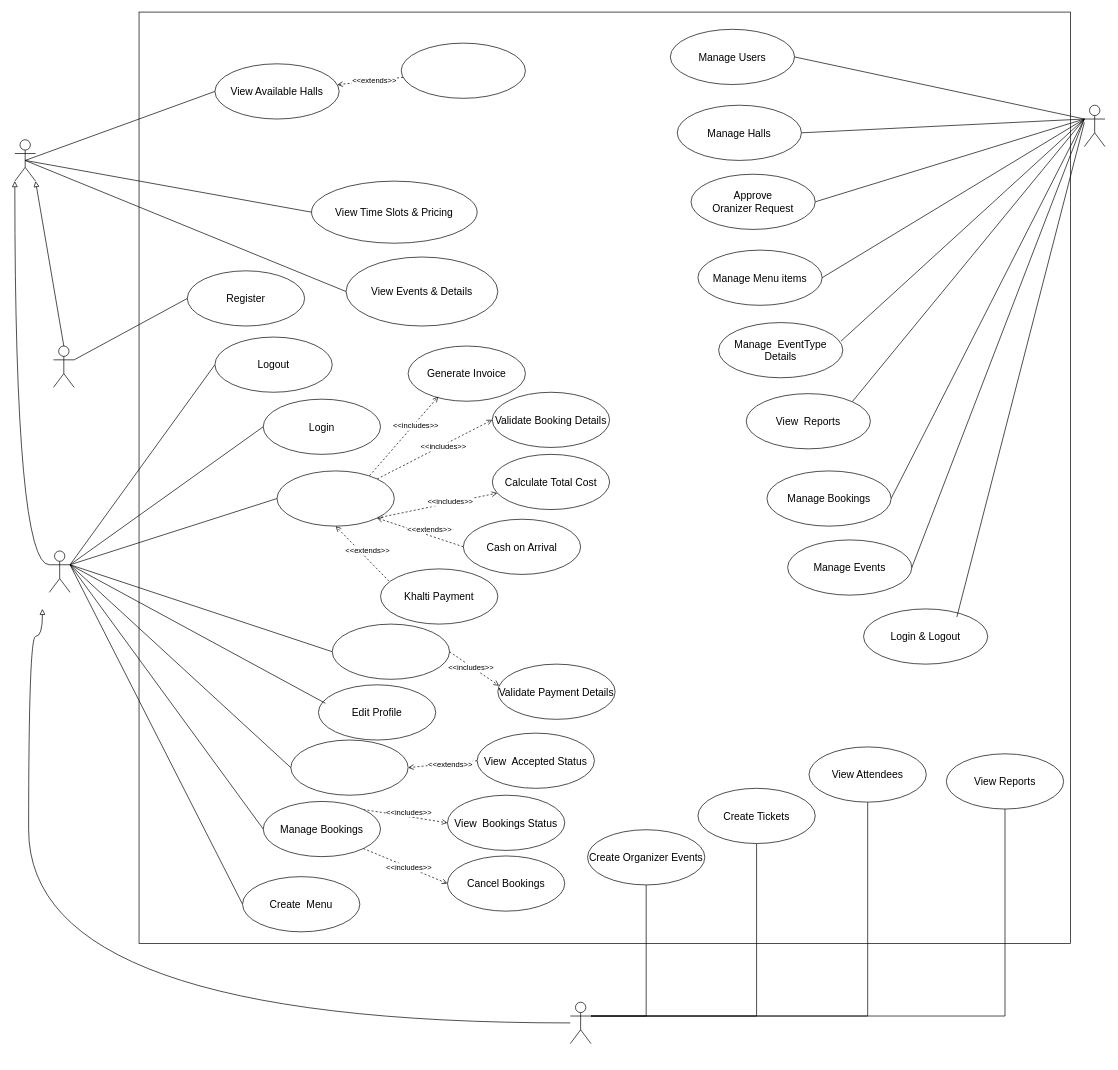
The diagram is 1118 pixels wide and 1070 high, and some of its shapes have lost their labels. The centre of each missing label's shape, as x and y in pixels:
"Admin" belongs at (x=1094, y=126).
"Book Halls" belongs at (x=335, y=498).
"Event Organizer" belongs at (x=580, y=1023).
"Filter By Date" belongs at (x=463, y=70).
"Make Payment" belongs at (x=391, y=651).
"Registerd User" belongs at (x=59, y=571).
"Submit Organizer Request" belongs at (x=349, y=767).
"Unregistered User" belongs at (x=63, y=366).
"User" belongs at (x=25, y=160).
